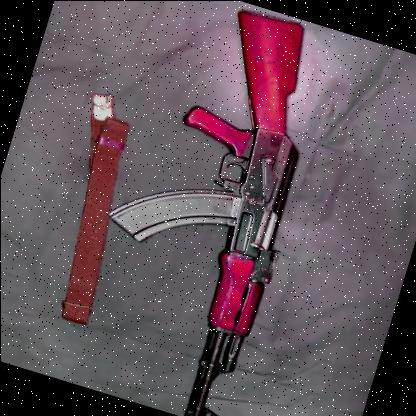rifle: (85, 0, 371, 416)
